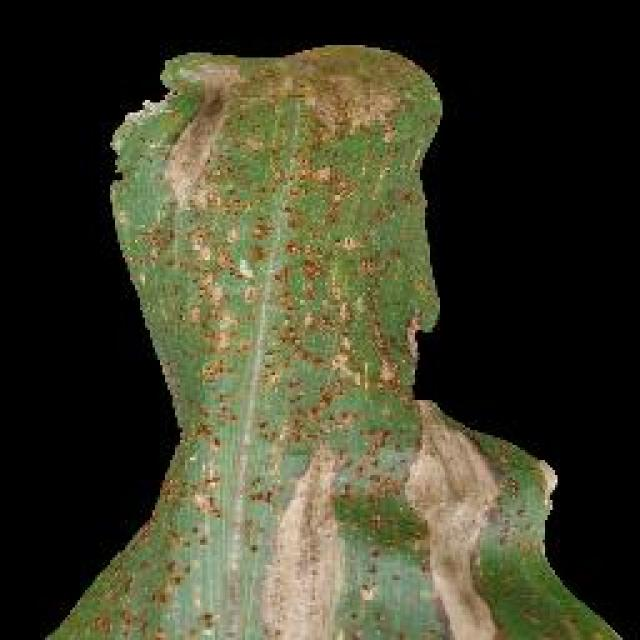Corn Common Rust: (180, 85, 502, 630)
